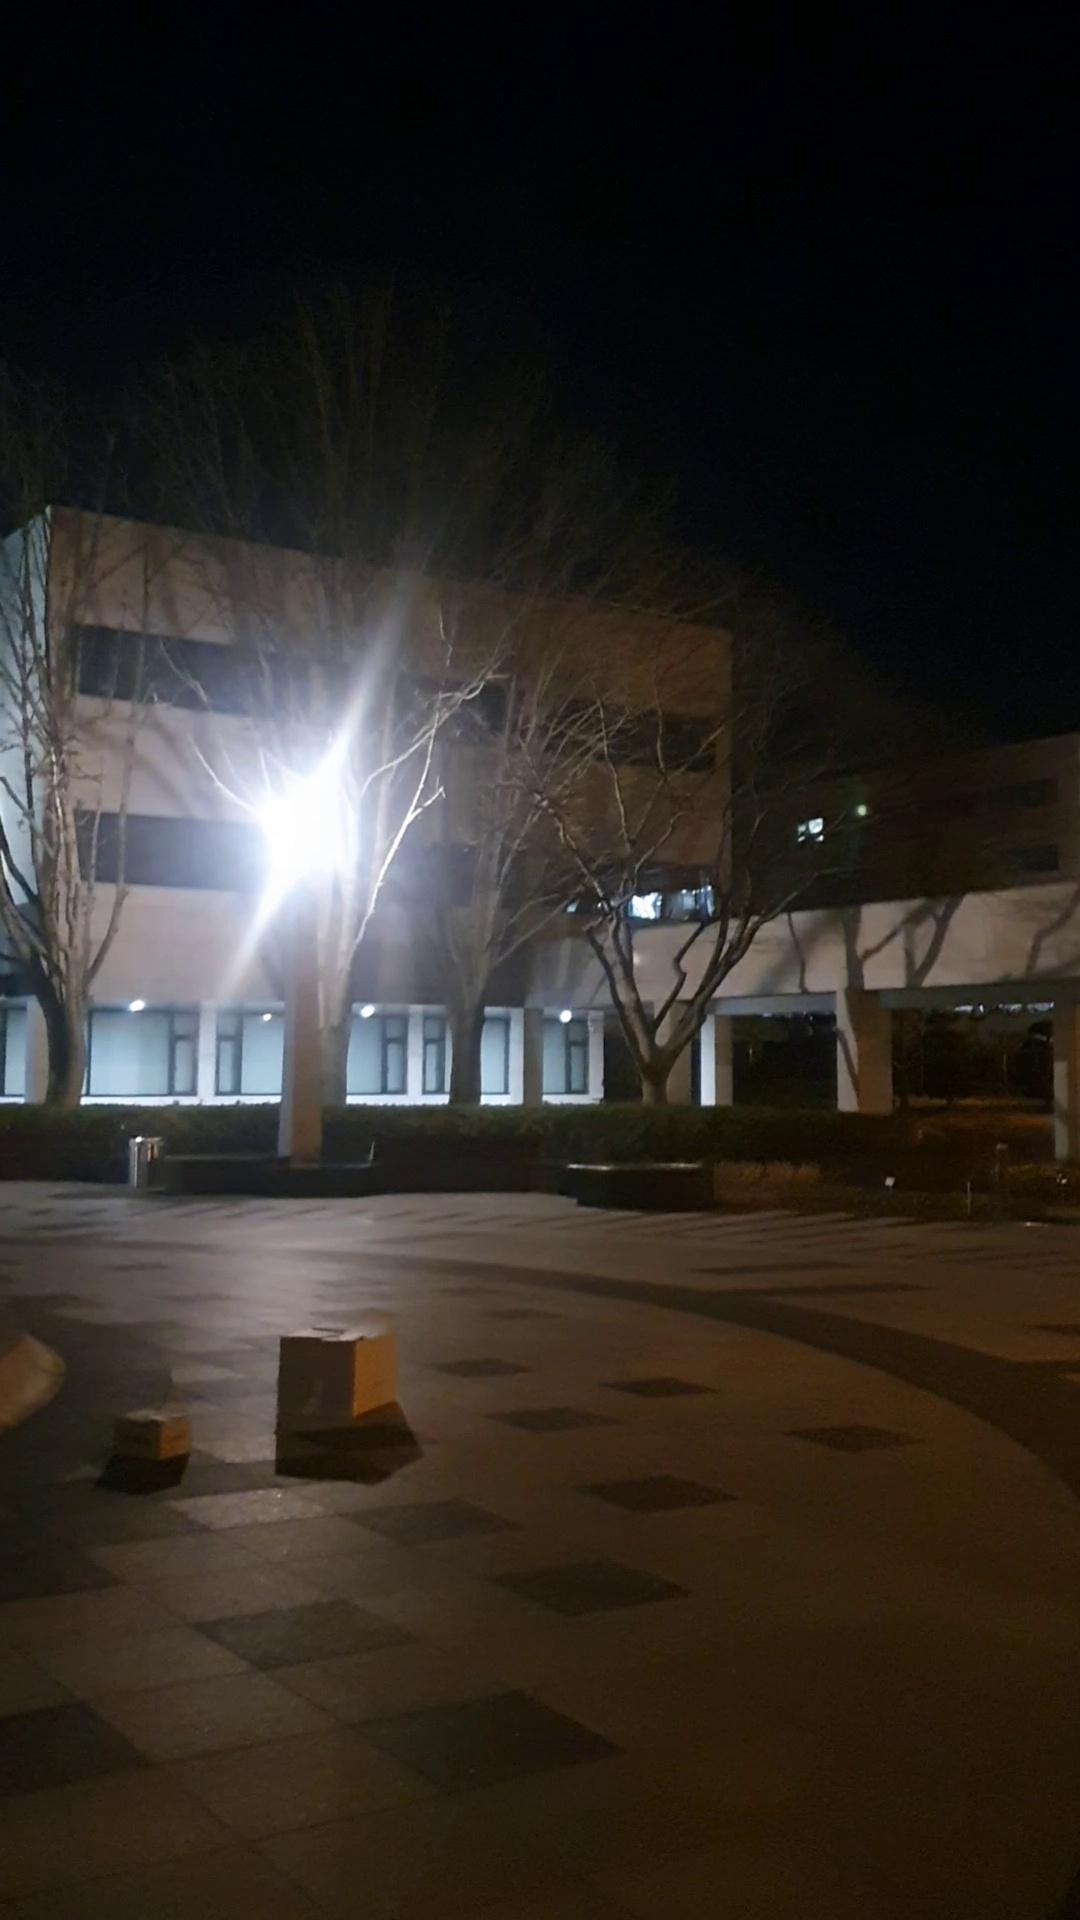Box: (268, 1315, 405, 1432), (108, 1385, 202, 1491)
